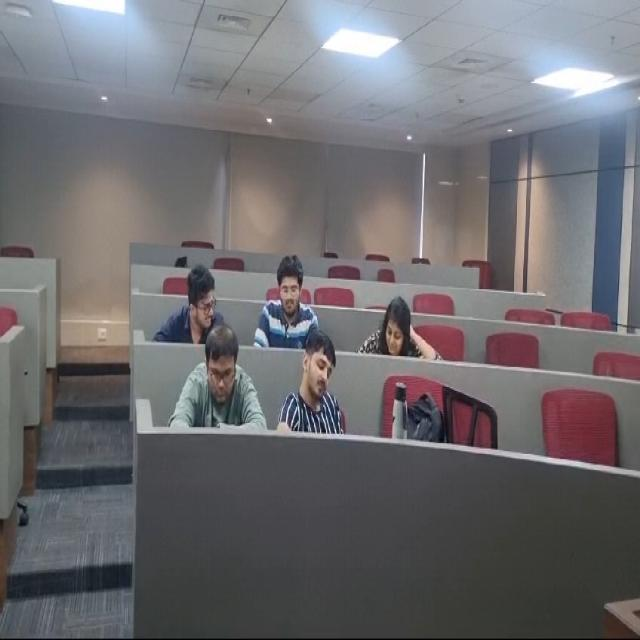cheating: (353, 278, 442, 362), (150, 262, 236, 342), (296, 332, 346, 434)
non-cheating: (185, 326, 263, 441), (254, 257, 320, 354)
